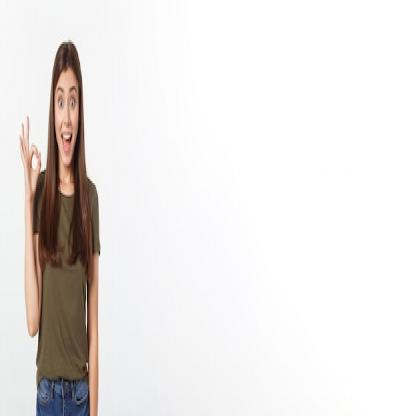ok: (16, 111, 43, 203)
